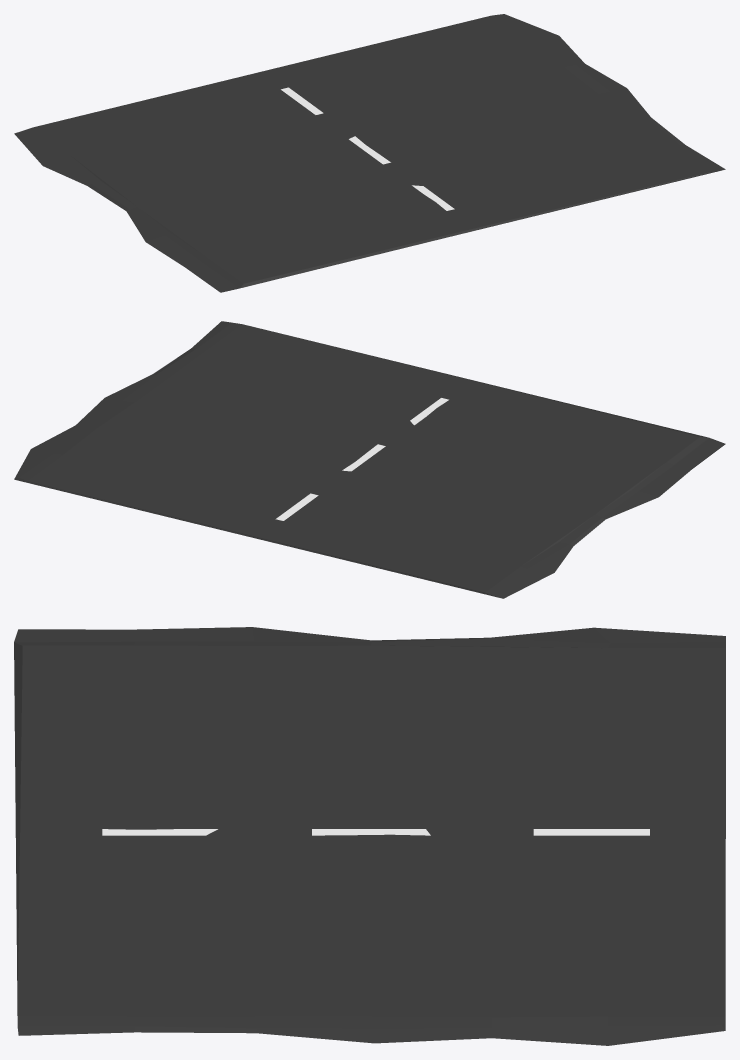
Rendered from Estrada4.fbx.
3 views of the same model, one above another, from view 1: azimuth 30°, elevation 25°; view 2: azimuth 150°, elevation 25°; view 3: azimuth 270°, elevation 25° (orthographic). The views are drawn at different scales.
Visible parts, largest first — view 1: Cube.004; view 2: Cube.004; view 3: Cube.004.
Boxes of the visible parts, x1,y1,x2,y2 form: Cube.004: [14, 14, 725, 292]; Cube.004: [14, 321, 725, 598]; Cube.004: [14, 627, 725, 1045].
Bounding box in the file's own units: 5881 × 26.88 × 4222.
